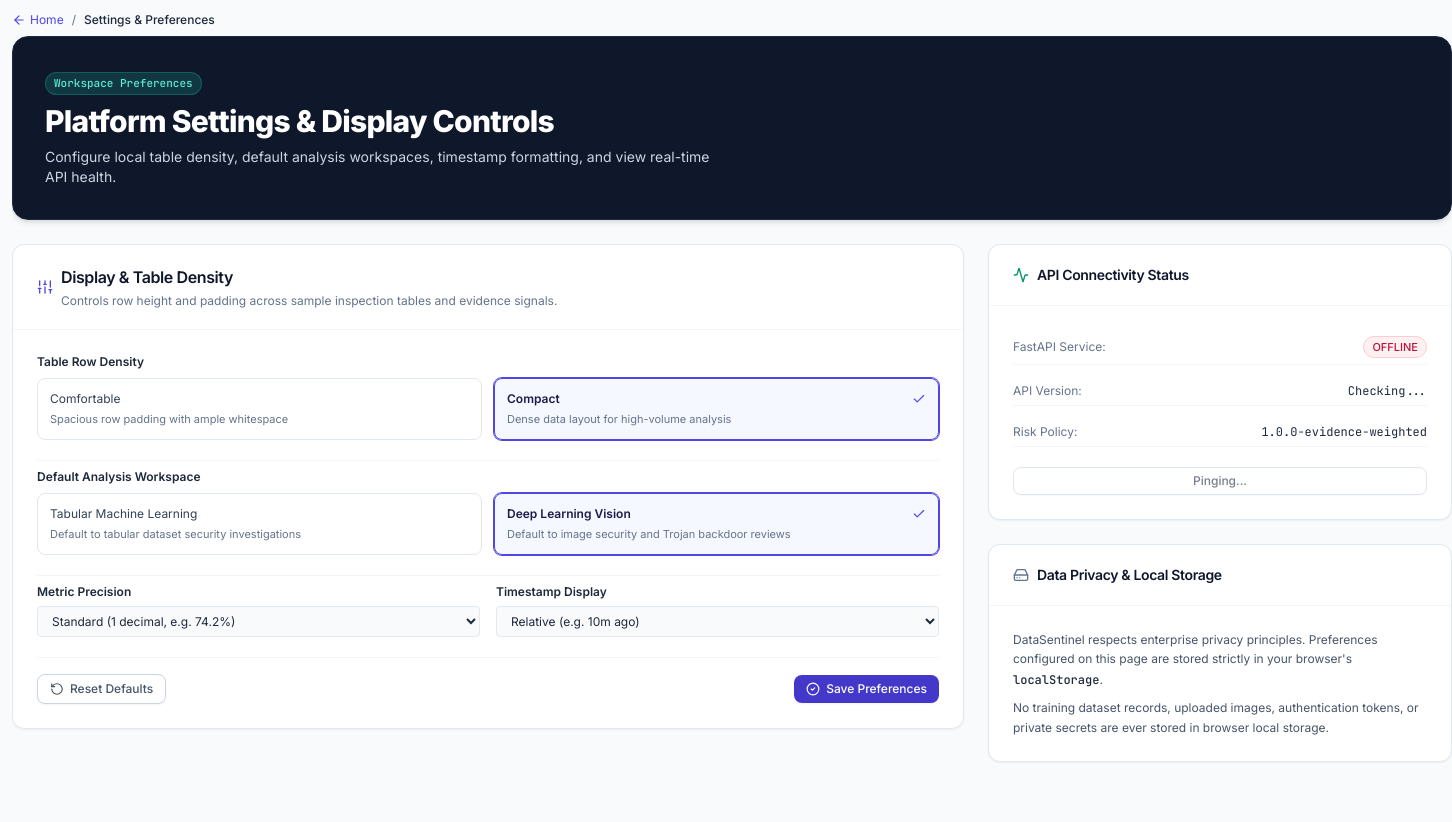
it: Phase 6 Remaining Pages Verification › SettingsPage Preferences & Persistence › resets preferences to default when reset button is clicked
The width and height of the screenshot is (1452, 822).
Step 1. Click the button "Reset Defaults" → (102, 688), box [37,674,166,704]
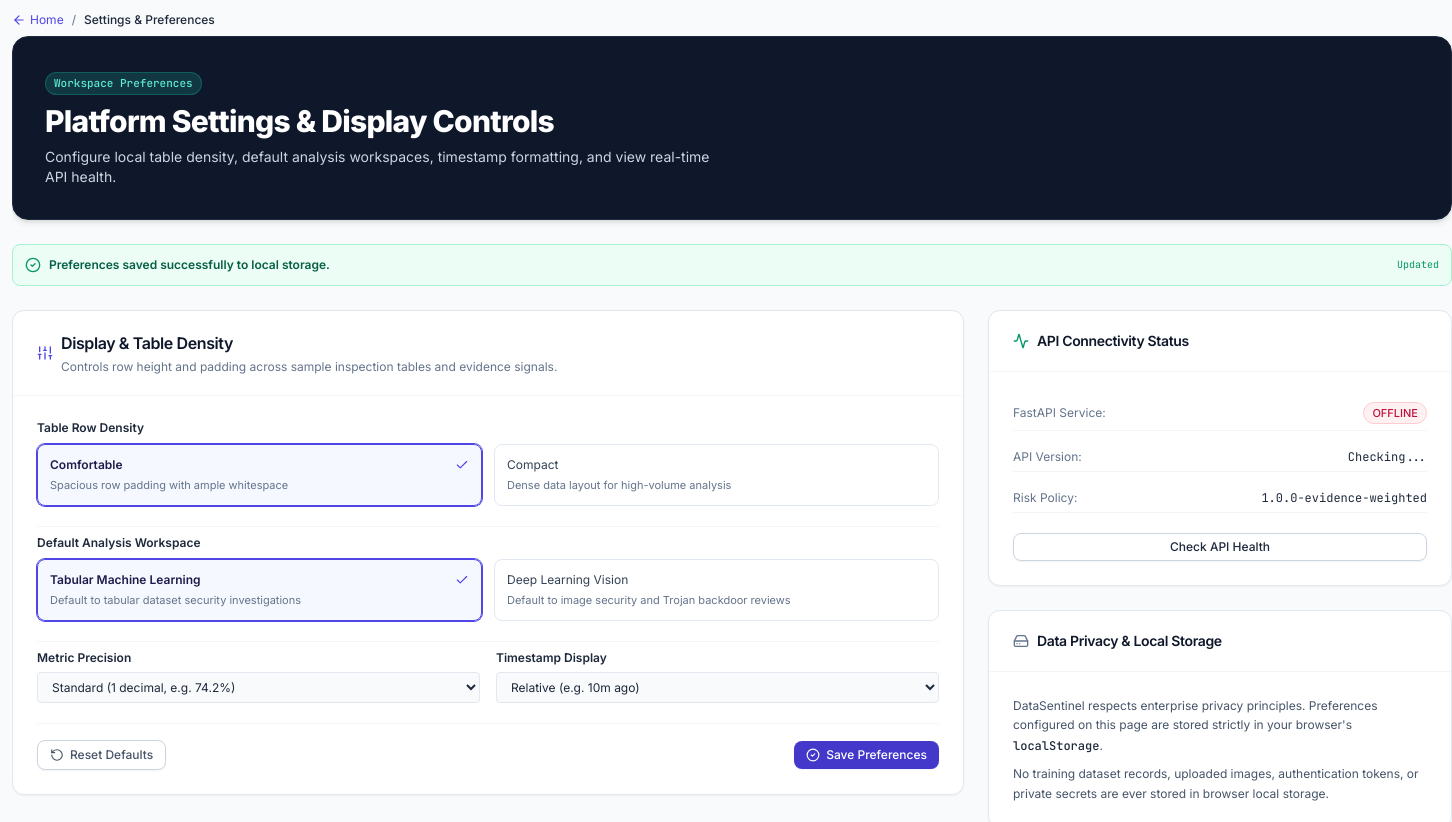
Expected: the text "Preferences saved successfully to local storage." is shown, [49,256,330,272]
